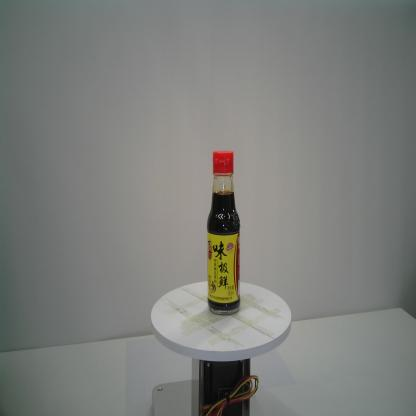Seasoner: (206, 149, 242, 315)
